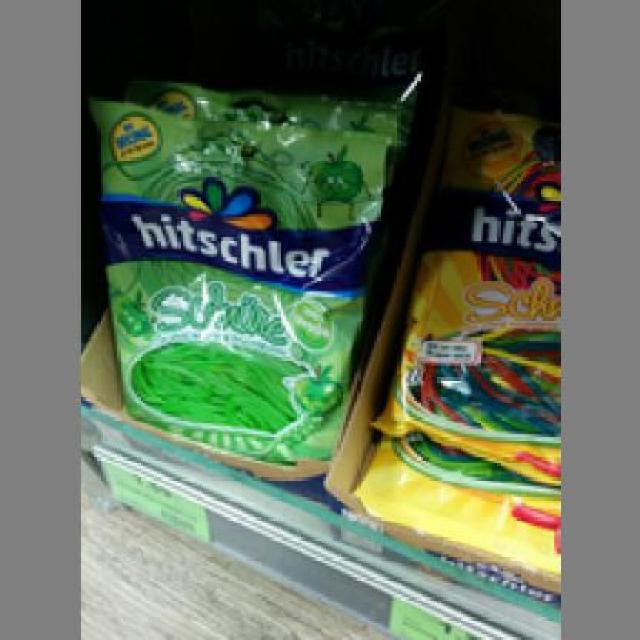Candy: (86, 97, 394, 457)
